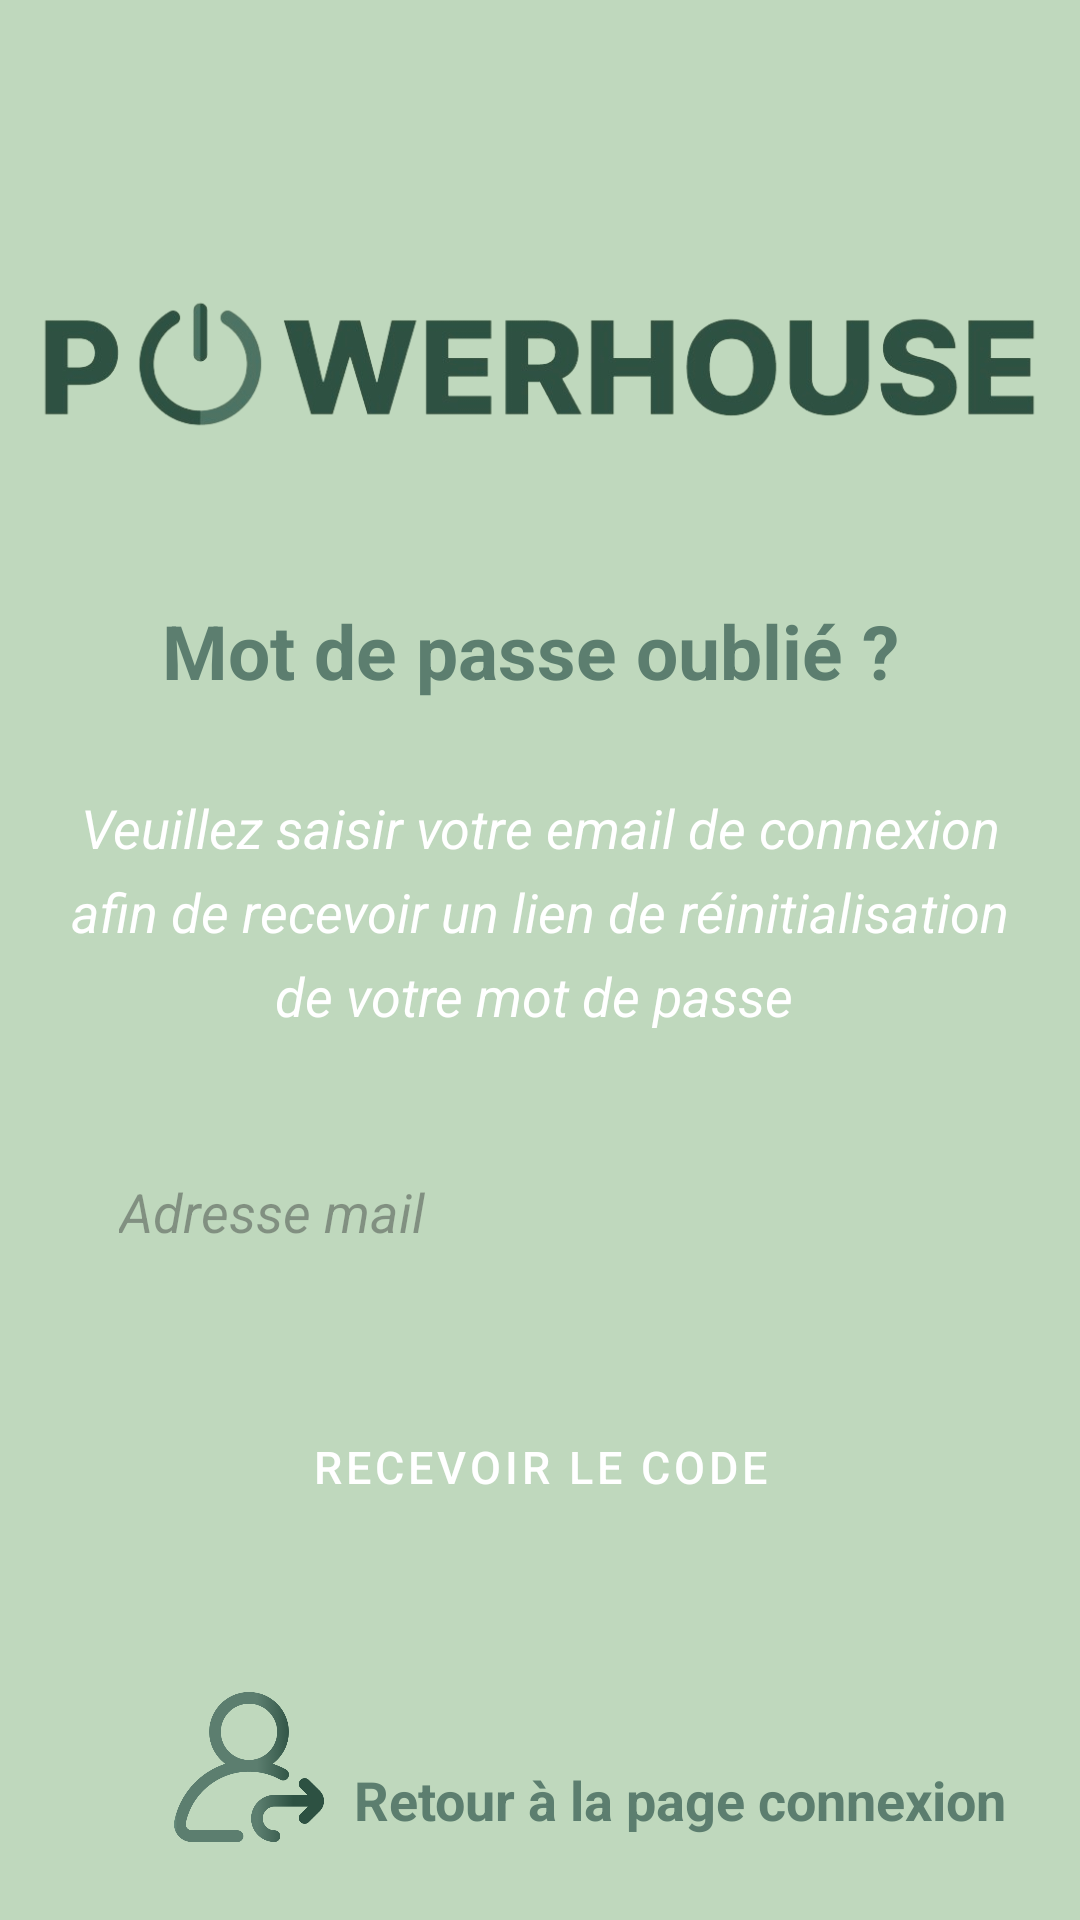

Named icons in this screenshot (1080*1920) and their bounding boxes, (left=x1, top=y1, right=x2, bottom=y2):
seconnecter: (left=174, top=1692, right=324, bottom=1842)
